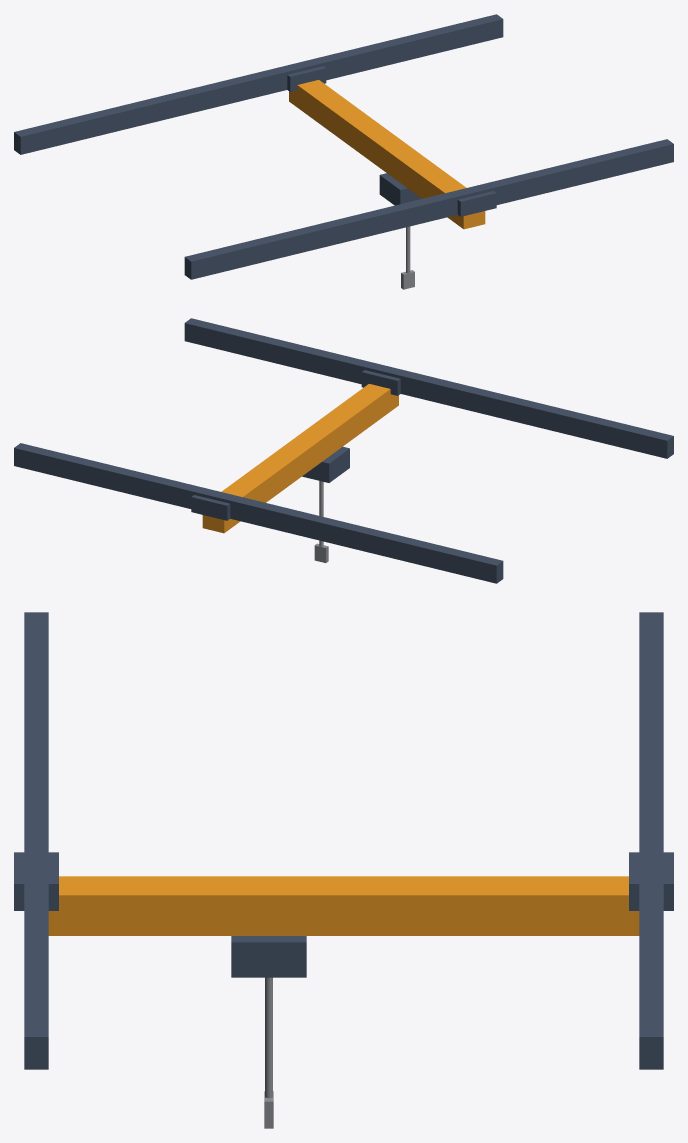
Rendered from ms1_crane.obj.
The picture shows the model from 3 angles, top to bottom: view 1: azimuth 30°, elevation 25°; view 2: azimuth 150°, elevation 25°; view 3: azimuth 270°, elevation 25°; orthographic projection. The views are drawn at different scales.
Visible parts, largest first — view 1: ms1_crane; view 2: ms1_crane; view 3: ms1_crane.
Part boxes in pixels (x1,y1,x2,y2): ms1_crane: (14, 14, 673, 289); ms1_crane: (14, 318, 673, 583); ms1_crane: (14, 612, 673, 1128).
Size of the model in its own units: 6.7 by 1.92 by 4.4.
